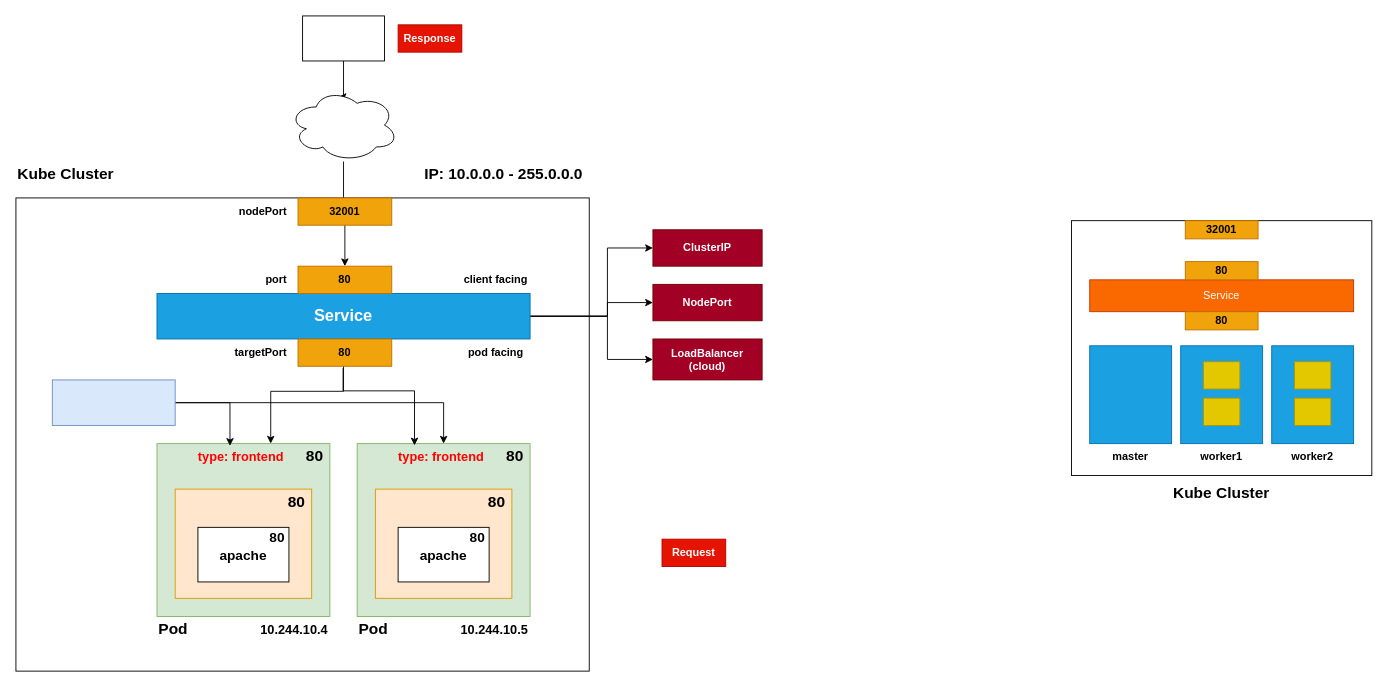
This 1388x687 diagram has some shape labels left out. Each missing label, with the centre of its shape:
"client" goes at [343,38].
"ReplicaSet" goes at [113,402].
